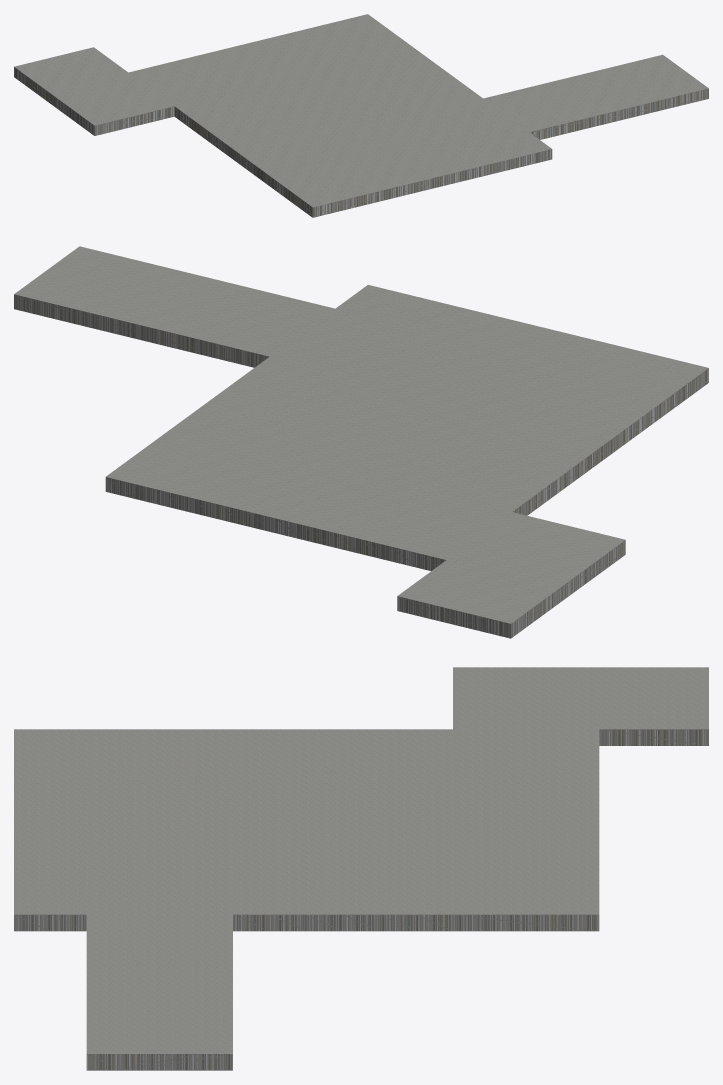
The model's file is Piso.fbx.
The picture shows the model from 3 angles, top to bottom: view 1: azimuth 30°, elevation 25°; view 2: azimuth 150°, elevation 25°; view 3: azimuth 270°, elevation 25°; orthographic projection. The views are drawn at different scales.
Visible parts, largest first — view 1: Cube; view 2: Cube; view 3: Cube.
Part boxes in pixels (<box>): Cube: <box>14,14,708,217</box>; Cube: <box>14,246,708,638</box>; Cube: <box>14,667,708,1070</box>.
Size of the model in its own units: 5000 by 100 by 3800.
1 material, 1 textured.
